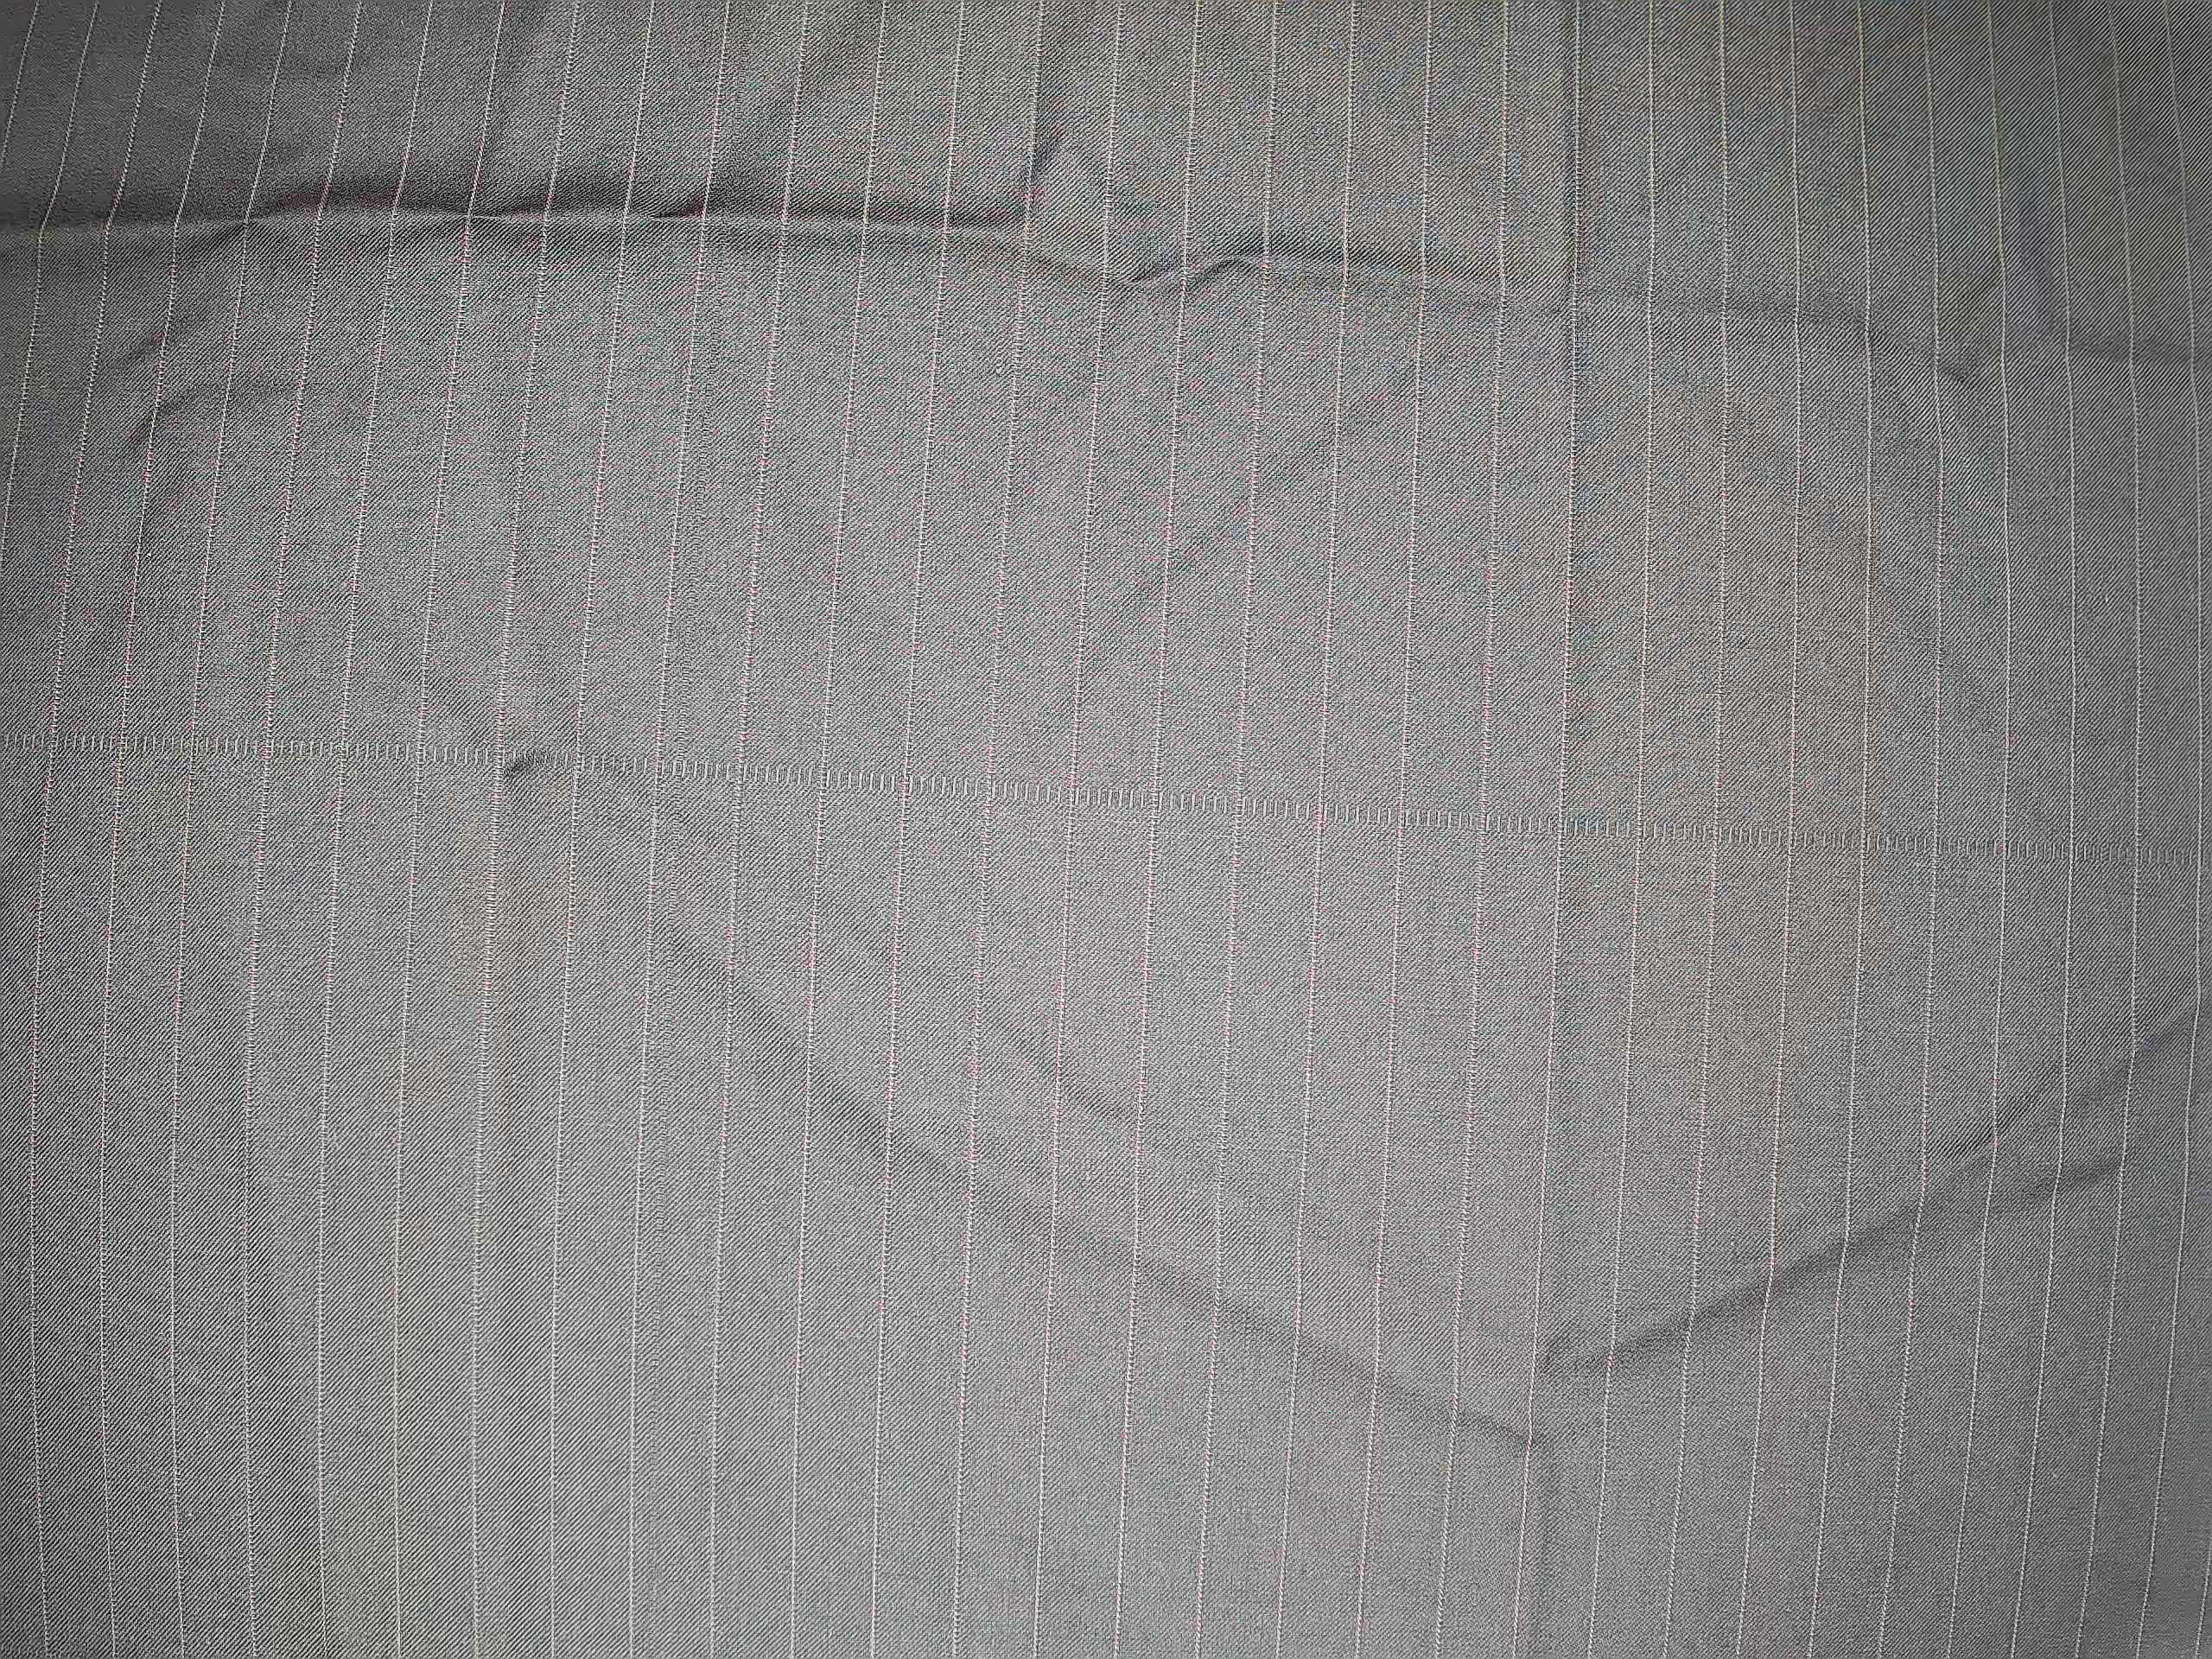jumps: (0, 708, 2186, 889)
